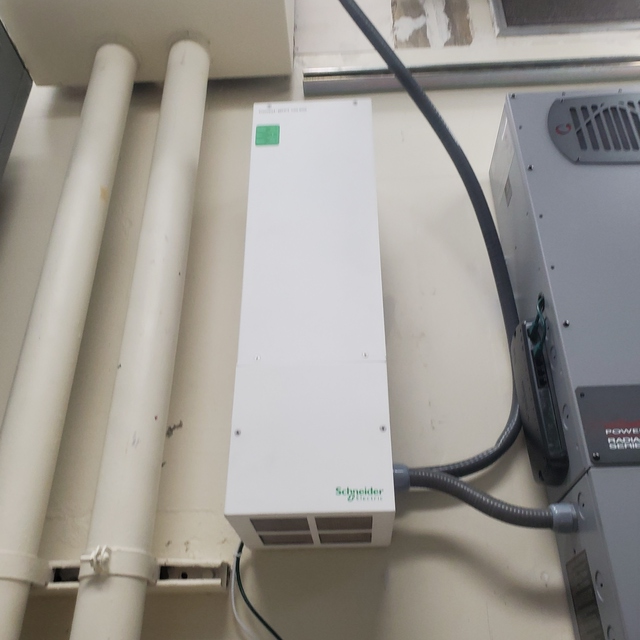charge_controller: (230, 92, 401, 565)
